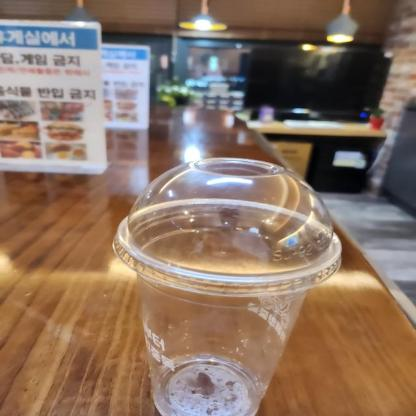Plastic Cup: (113, 150, 344, 416)
